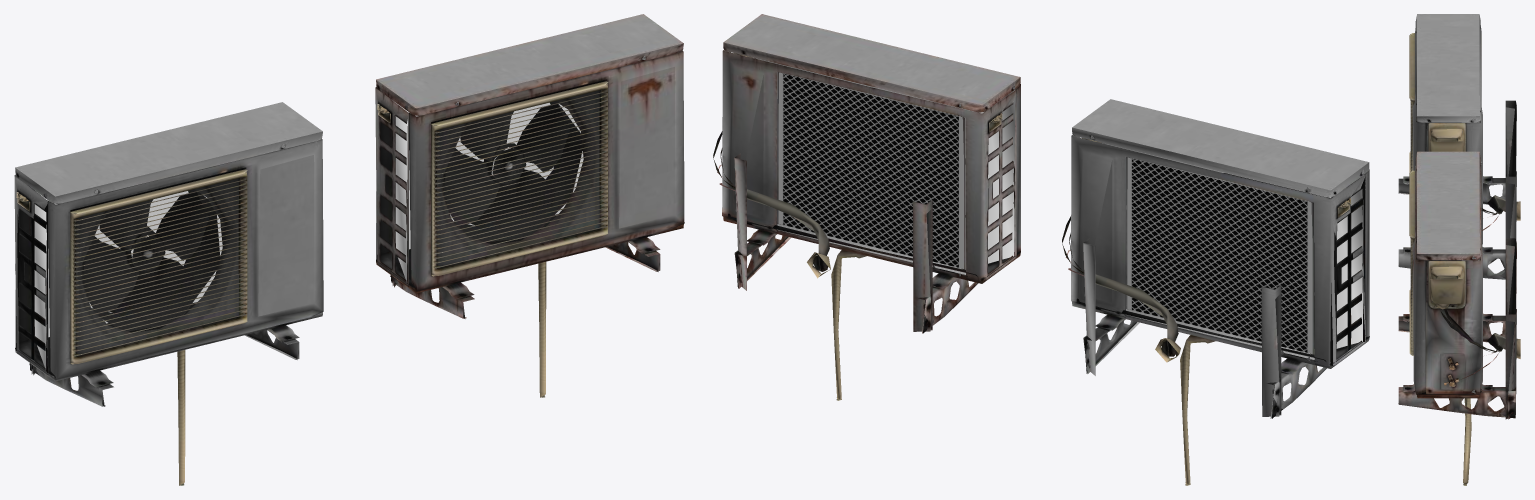
Rendered from exterior_aircon_unit.glb.
3 renders of one model, left to right at view 1: azimuth 30°, elevation 25°; view 2: azimuth 150°, elevation 25°; view 3: azimuth 270°, elevation 25°, orthographic. The views are drawn at different scales.
Parts seen in each view (by area): view 1: exterior_aircon_unit; view 2: exterior_aircon_unit; view 3: exterior_aircon_unit.
Boxes of the visible parts, bbox=[...] form: exterior_aircon_unit: bbox=[14, 14, 684, 485]; exterior_aircon_unit: bbox=[713, 14, 1369, 485]; exterior_aircon_unit: bbox=[1398, 14, 1520, 485].
Bounding box in the file's own units: 1.8 × 0.9265 × 0.3748.
4 materials, 4 textured.
